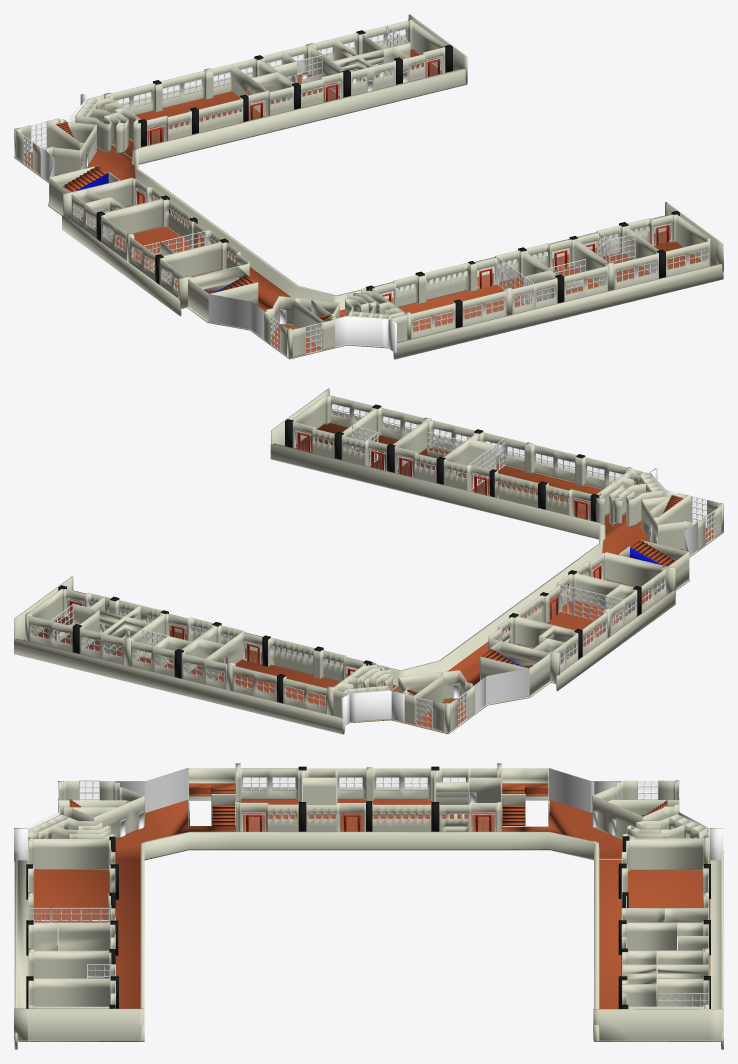
The model's file is Lantai 3.obj.
3 renders of one model, top to bottom at view 1: azimuth 30°, elevation 25°; view 2: azimuth 150°, elevation 25°; view 3: azimuth 270°, elevation 25°, orthographic. The views are drawn at different scales.
Visible parts, largest first — view 1: Lantai_3, LP_1, LP_2, NETICS, Pillar, Tangga, Sekretariat_HMTC, Co_Working_Space_IUP, PKT, KBJ, KCV, ALPRO (+7 smaller); view 2: Lantai_3, LP_1, LP_2, Pillar, NETICS, Tangga, Co_Working_Space_IUP, Sekretariat_HMTC, PKT, ALPRO, KBJ, MCI (+7 smaller); view 3: Lantai_3, NETICS, LP_1, Tangga, LP_2, GIGA, Lab_Pascasarjana, Co_Working_Space_IUP, Sekretariat_HMTC, Pillar, MCI, RPL (+8 smaller).
Boxes of the visible parts, x1,y1,x2,y2 form: Lantai_3: (14, 14, 723, 359); LP_1: (371, 250, 557, 338); LP_2: (109, 58, 293, 145); NETICS: (101, 199, 222, 281); Pillar: (14, 19, 679, 358); Tangga: (49, 165, 258, 321); Sekretariat_HMTC: (264, 296, 339, 357); Co_Working_Space_IUP: (16, 118, 96, 175); PKT: (362, 20, 445, 81); KBJ: (575, 225, 658, 289); KCV: (525, 239, 607, 301); ALPRO: (260, 45, 343, 107); Lantai_3: (14, 388, 723, 734); LP_1: (443, 432, 629, 520); LP_2: (181, 625, 365, 714); Pillar: (25, 404, 723, 732); NETICS: (516, 573, 637, 656); Tangga: (480, 540, 689, 695); Co_Working_Space_IUP: (398, 670, 474, 731); Sekretariat_HMTC: (641, 493, 721, 549); PKT: (28, 589, 104, 651); ALPRO: (131, 613, 214, 676); KBJ: (341, 407, 425, 470); MCI: (79, 596, 163, 664); Lantai_3: (14, 768, 723, 1049); NETICS: (302, 768, 435, 831); LP_1: (27, 838, 115, 923); Tangga: (188, 768, 548, 826); LP_2: (621, 839, 709, 922); GIGA: (435, 768, 501, 831); Lab_Pascasarjana: (236, 768, 302, 831); Co_Working_Space_IUP: (592, 780, 679, 839); Sekretariat_HMTC: (58, 780, 144, 838); Pillar: (26, 763, 710, 1008); MCI: (622, 950, 709, 983); RPL: (28, 979, 115, 1008).
Bounding box in the file's own units: 67.23 × 5.3 × 82.17.
